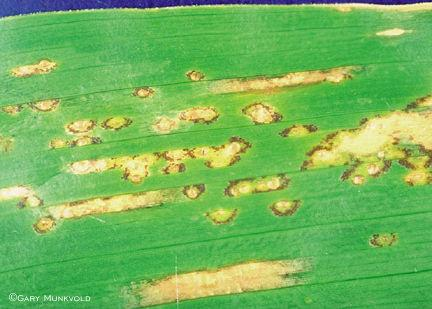Corn rust leaf: (1, 12, 432, 291)
